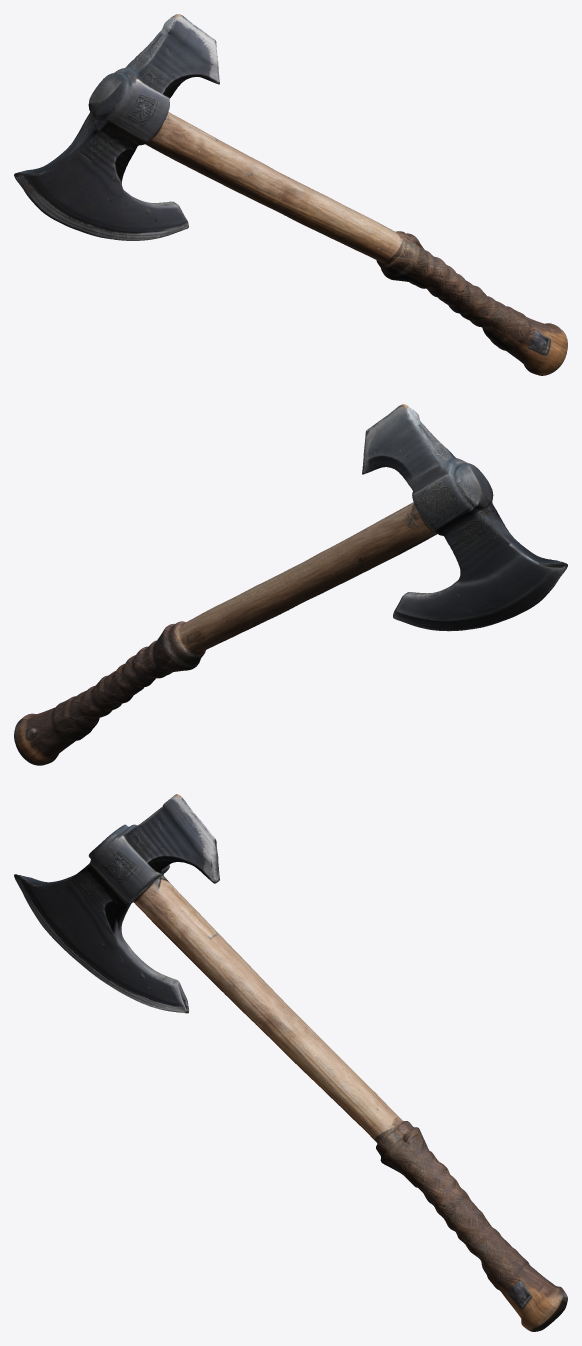
Rendered from Meshy_AI_axe__0901063000_texture.fbx.
The picture shows the model from 3 angles, top to bottom: view 1: azimuth 30°, elevation 25°; view 2: azimuth 150°, elevation 25°; view 3: azimuth 330°, elevation 25°; orthographic projection.
Visible parts, largest first — view 1: Mesh_0; view 2: Mesh_0; view 3: Mesh_0.
Boxes of the visible parts, x1,y1,x2,y2 form: Mesh_0: (14, 14, 567, 375); Mesh_0: (14, 404, 567, 765); Mesh_0: (14, 794, 567, 1331).
Size of the model in its own units: 200 by 156 by 17.42.
Materials: 1 (1 with a texture image).
